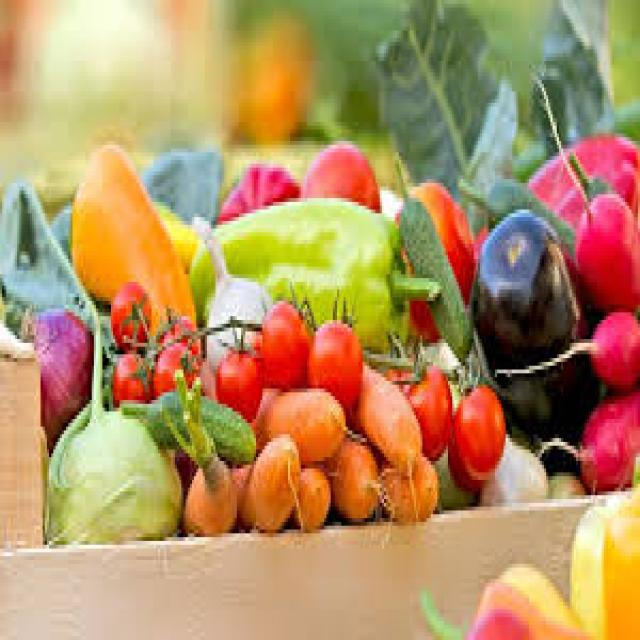organic waste: (188, 194, 435, 350), (472, 206, 600, 468), (39, 312, 180, 541), (371, 0, 514, 183), (66, 137, 196, 335), (522, 0, 623, 171), (0, 179, 87, 358), (392, 152, 470, 350), (420, 560, 593, 636), (162, 362, 235, 533), (527, 133, 638, 244), (394, 179, 472, 335), (508, 95, 638, 179), (458, 168, 572, 259), (565, 499, 638, 636), (17, 297, 90, 434), (121, 389, 254, 461), (252, 373, 346, 461), (572, 186, 638, 308), (354, 362, 423, 468), (303, 286, 360, 408), (230, 430, 299, 530), (393, 347, 450, 457), (574, 388, 638, 484), (143, 145, 220, 221), (572, 304, 638, 388), (303, 137, 378, 210), (448, 362, 499, 468), (260, 290, 314, 388), (480, 427, 548, 503), (211, 316, 260, 419), (213, 160, 299, 213), (333, 423, 375, 518), (380, 446, 431, 522), (107, 278, 149, 351), (149, 335, 194, 400), (444, 423, 480, 495), (296, 461, 331, 526), (160, 308, 201, 362), (111, 343, 149, 400), (544, 465, 589, 495)
